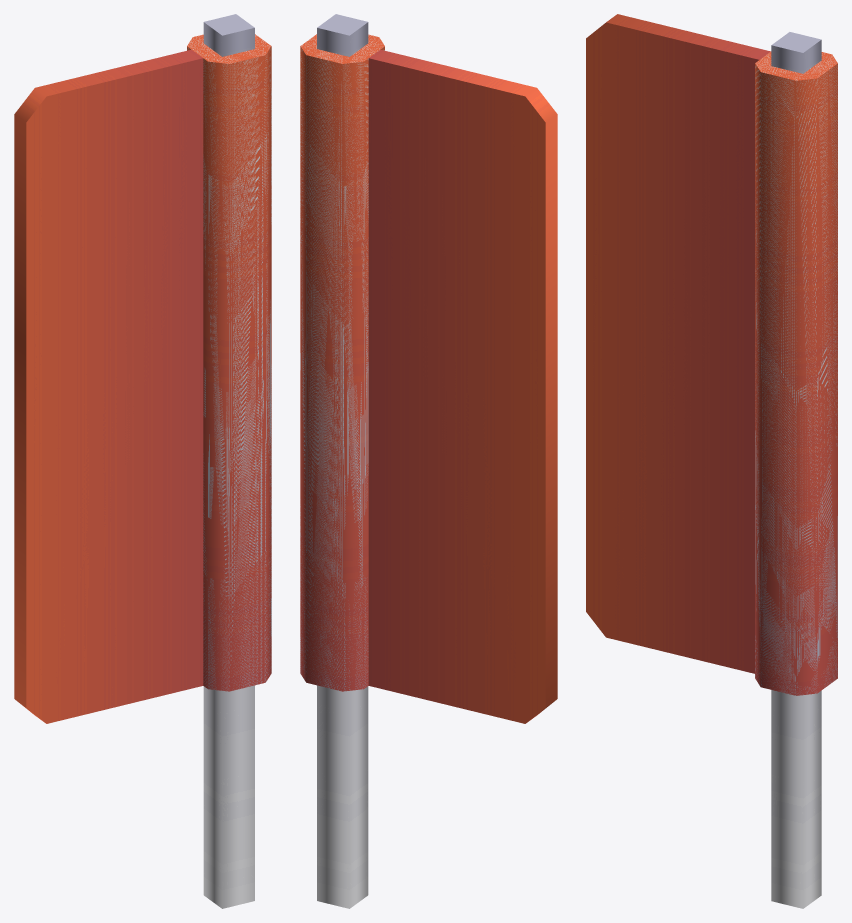
File: flag-large-red.glb
3 renders of one model, left to right at view 1: azimuth 30°, elevation 25°; view 2: azimuth 150°, elevation 25°; view 3: azimuth 330°, elevation 25°, orthographic. The views are drawn at different scales.
Parts seen in each view (by area): view 1: flag-large-red; view 2: flag-large-red; view 3: flag-large-red.
Part boxes in pixels (x1=…): flag-large-red: x1=14, y1=14, x2=271, y2=908; flag-large-red: x1=300, y1=14, x2=557, y2=908; flag-large-red: x1=586, y1=14, x2=837, y2=908.
Bounding box in the file's own units: 0.2956 × 1.02 × 0.0781.
1 material, 1 textured.
